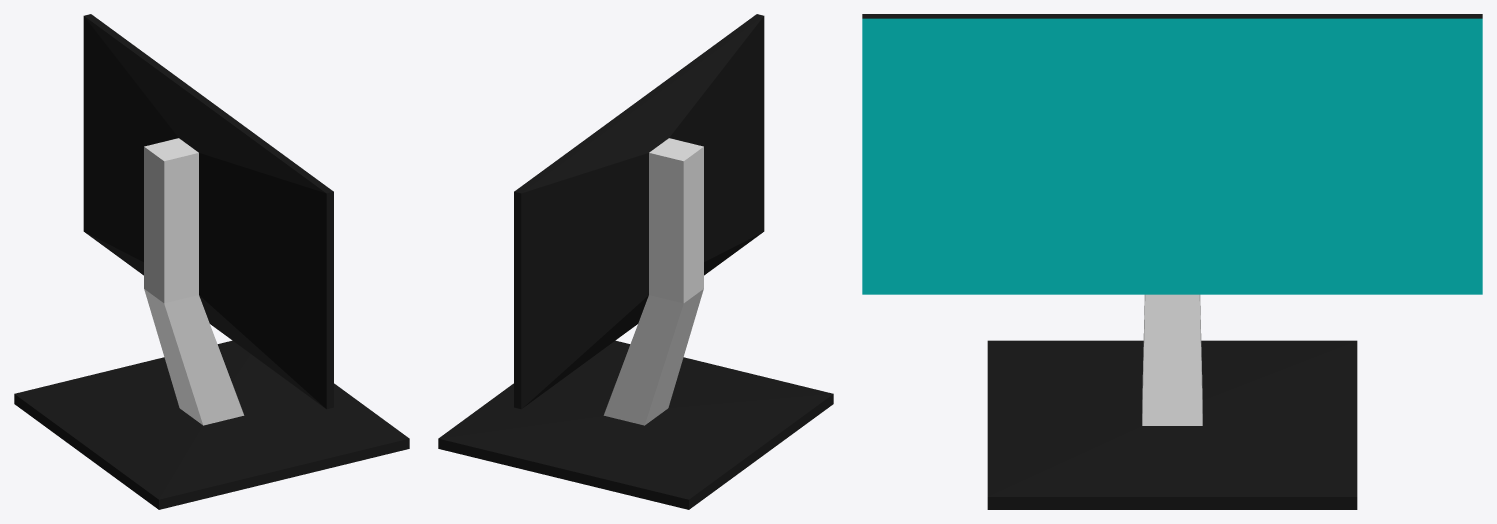
The model's file is Pantalla.fbx.
The picture shows the model from 3 angles, left to right: view 1: azimuth 30°, elevation 25°; view 2: azimuth 150°, elevation 25°; view 3: azimuth 270°, elevation 25°; orthographic projection. The views are drawn at different scales.
Parts seen in each view (by area): view 1: Cube; view 2: Cube; view 3: Cube.
Part boxes in pixels (<box>): Cube: <box>14,14,409,509</box>; Cube: <box>438,14,833,509</box>; Cube: <box>862,14,1482,509</box>.
Bounding box in the file's own units: 200 × 247 × 336.
